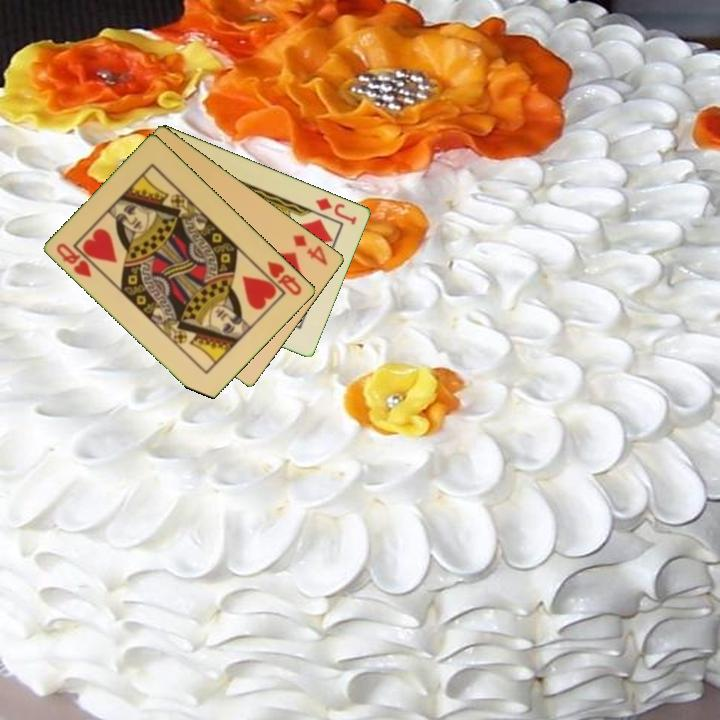4d: (290, 231, 331, 268)
Jd: (312, 194, 360, 228)
Qh: (53, 239, 95, 280), (264, 257, 305, 298)
